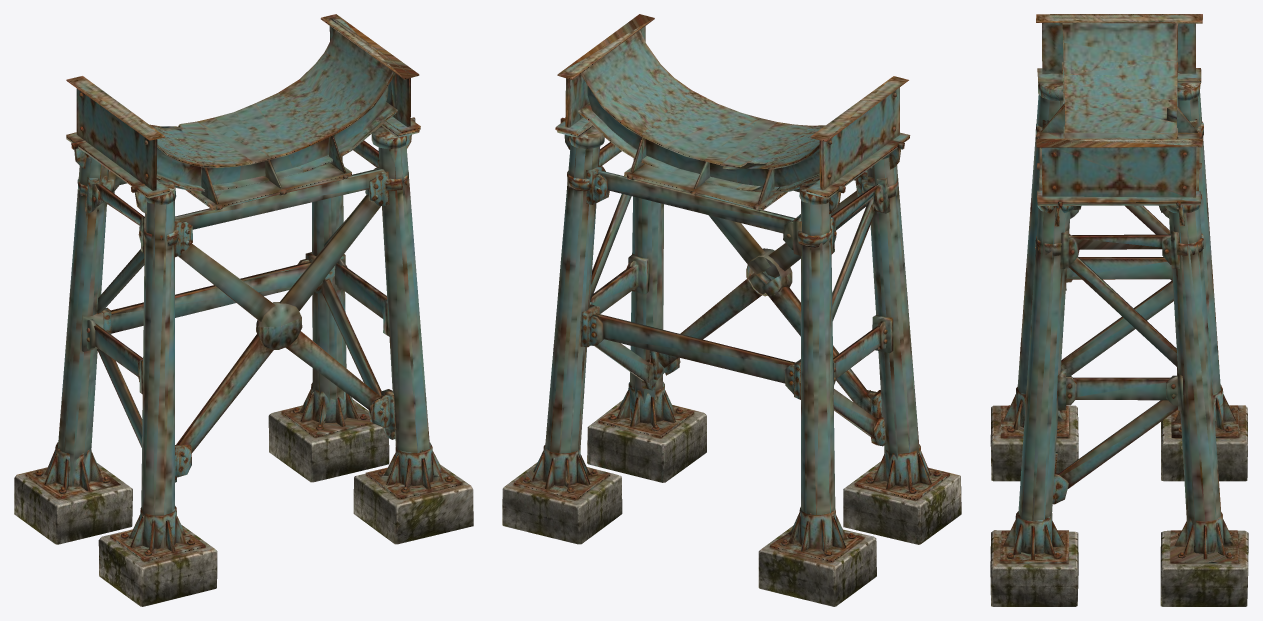
Rendered from flume-support.glb.
3 renders of one model, left to right at view 1: azimuth 30°, elevation 25°; view 2: azimuth 150°, elevation 25°; view 3: azimuth 270°, elevation 25°, orthographic.
Parts seen in each view (by area): view 1: flume-support; view 2: flume-support; view 3: flume-support.
Part boxes in pixels (x1,y1,x2,y2): flume-support: [14, 14, 473, 606]; flume-support: [502, 14, 961, 606]; flume-support: [990, 14, 1248, 606].
Size of the model in its own units: 9.47 by 12 by 6.32.
Materials: 1 (1 with a texture image).
